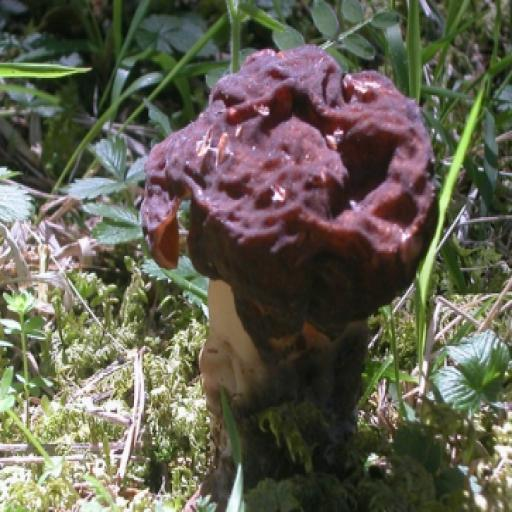mushroom: (143, 45, 438, 390)
